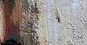Corrosion: (1, 1, 43, 45)
